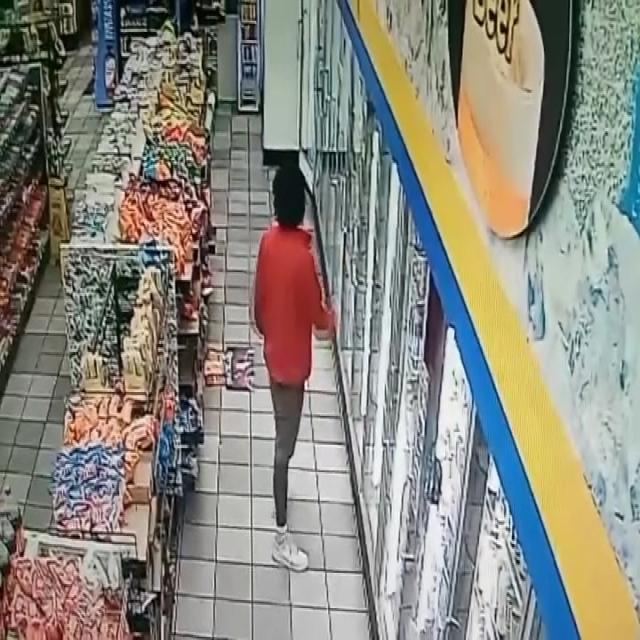Normal: (245, 113, 343, 588)
